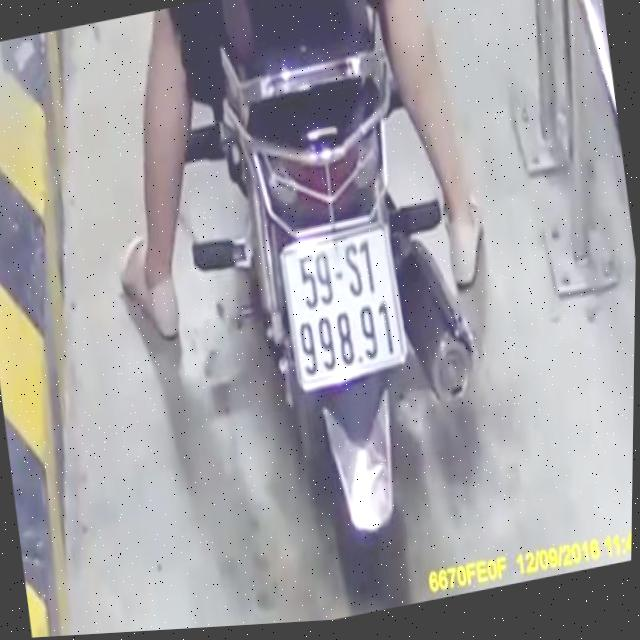motorcycle: (150, 0, 523, 631)
plate: (267, 214, 417, 400)
